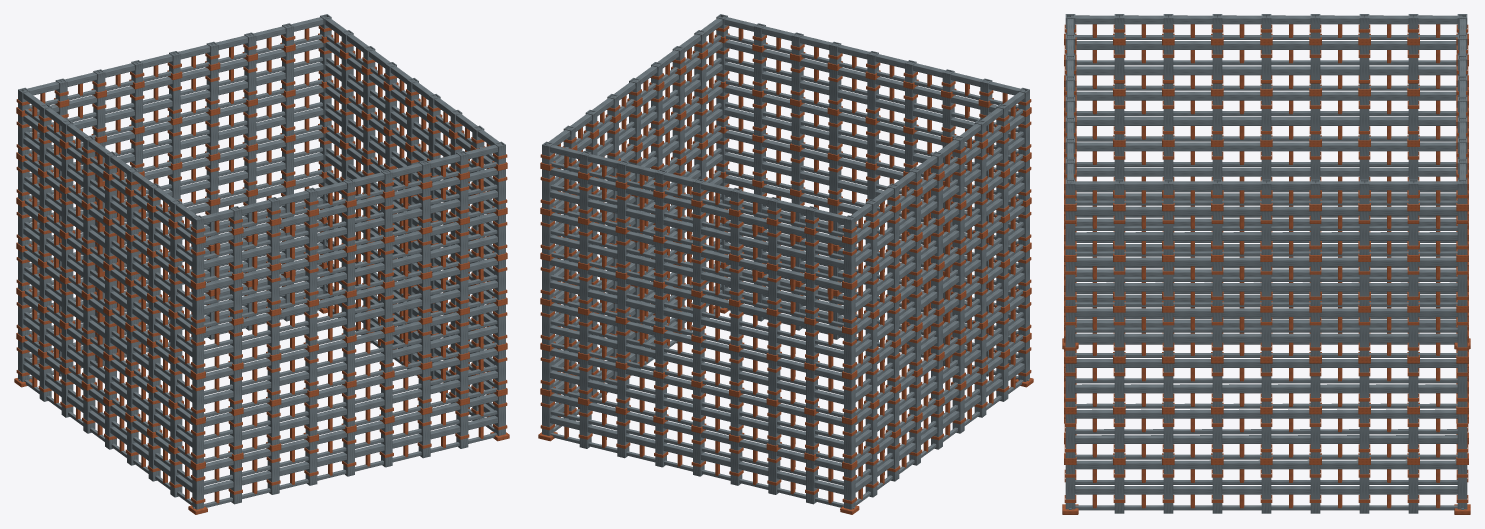
3 views of the same model, side by side, from view 1: azimuth 30°, elevation 25°; view 2: azimuth 150°, elevation 25°; view 3: azimuth 270°, elevation 25° (orthographic). The views are drawn at different scales.
Parts seen in each view (by area): view 1: no part large enough to name; view 2: no part large enough to name; view 3: Tier 0 side 1 post 1, Tier 0 side 1 post 2, Tier 0 side 1 post 3, Tier 0 side 1 post 4, Tier 0 side 1 post 5, Tier 0 side 1 post 6, Tier 0 side 1 post 7.
Boxes of the visible parts, box(x1,y1,x2,y2) form: Tier 0 side 1 post 1: box(1114, 465, 1124, 513); Tier 0 side 1 post 2: box(1163, 465, 1173, 513); Tier 0 side 1 post 3: box(1212, 465, 1222, 513); Tier 0 side 1 post 4: box(1261, 465, 1271, 513); Tier 0 side 1 post 5: box(1310, 465, 1320, 513); Tier 0 side 1 post 6: box(1359, 465, 1369, 513); Tier 0 side 1 post 7: box(1408, 465, 1418, 513).
Bounding box in the file's own units: 3.75 × 3.34 × 3.75.
2 materials, 2 textured.
